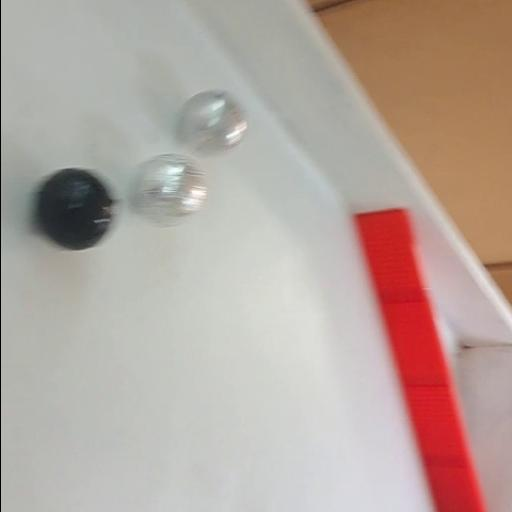alive: (128, 153, 206, 230), (176, 88, 248, 158)
dead: (32, 167, 118, 253)
